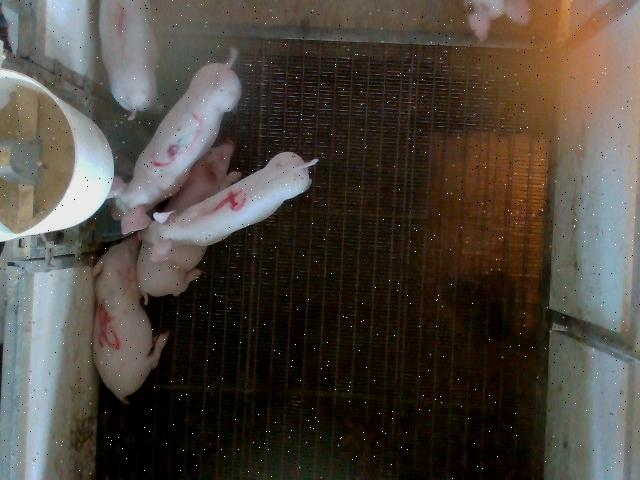pig-1: (100, 2, 158, 120)
pig-3: (109, 51, 241, 234)
pig-4: (139, 153, 318, 262)
pig-5: (92, 235, 169, 402)
